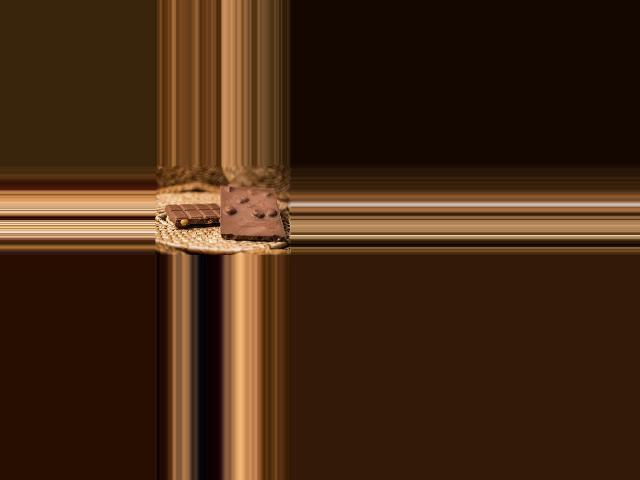chocolate: (216, 184, 286, 241)
